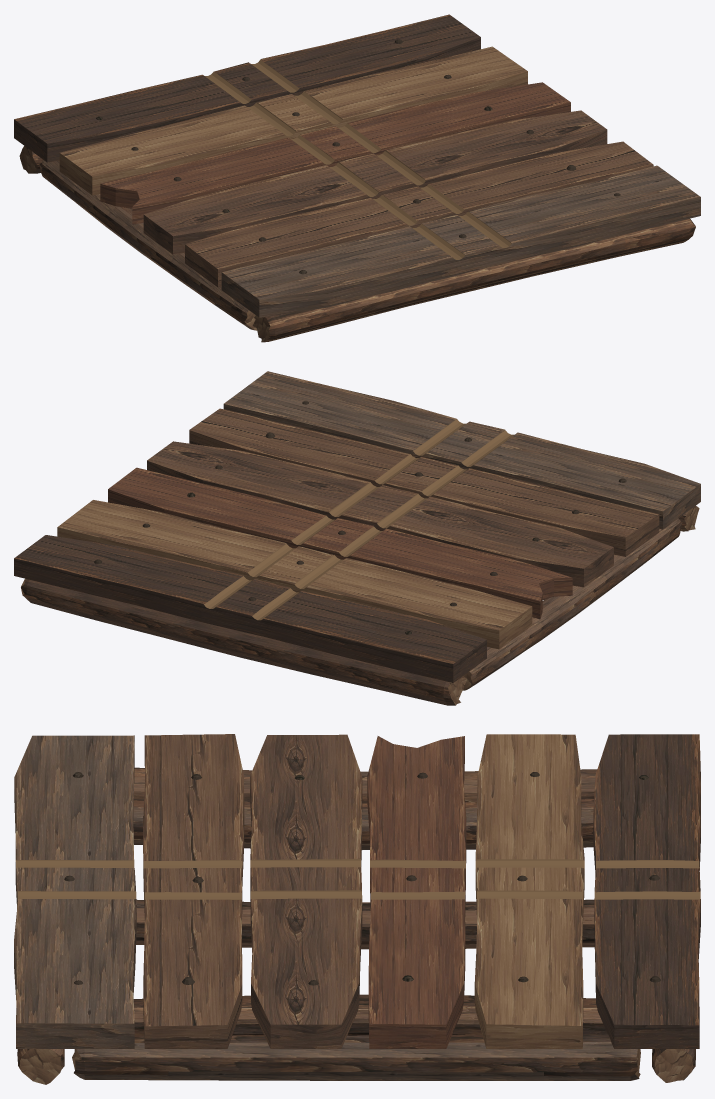
File: floor_grooved.glb
The picture shows the model from 3 angles, top to bottom: view 1: azimuth 30°, elevation 25°; view 2: azimuth 150°, elevation 25°; view 3: azimuth 270°, elevation 25°; orthographic projection. The views are drawn at different scales.
Parts seen in each view (by area): view 1: model; view 2: model; view 3: model.
Part boxes in pixels (x1,y1,x2,y2): model: (14,14,700,342); model: (14,371,700,705); model: (14,734,700,1084).
Bounding box in the file's own units: 1.99 × 0.2312 × 2.
Materials: 20 (19 with a texture image).
